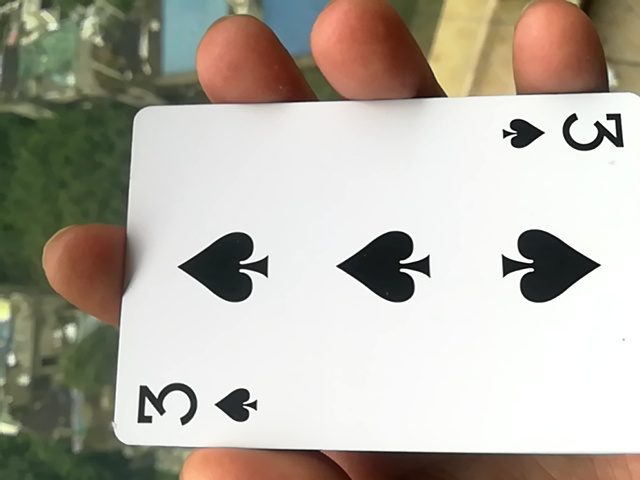ht 3: (93, 107, 636, 472)
